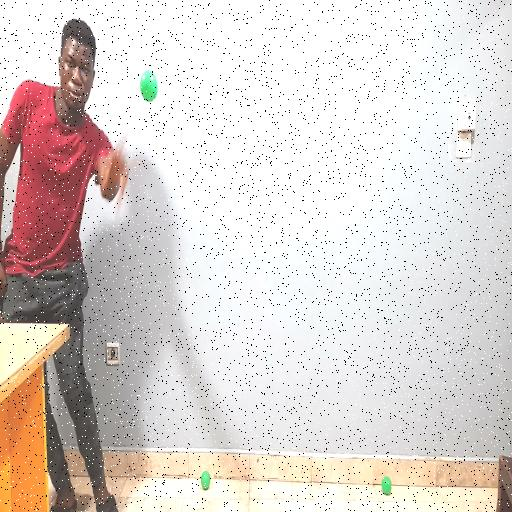plastic-ball: (139, 71, 156, 101)
